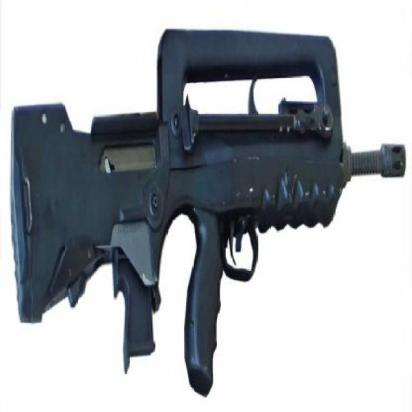Gun: (5, 12, 411, 384)
